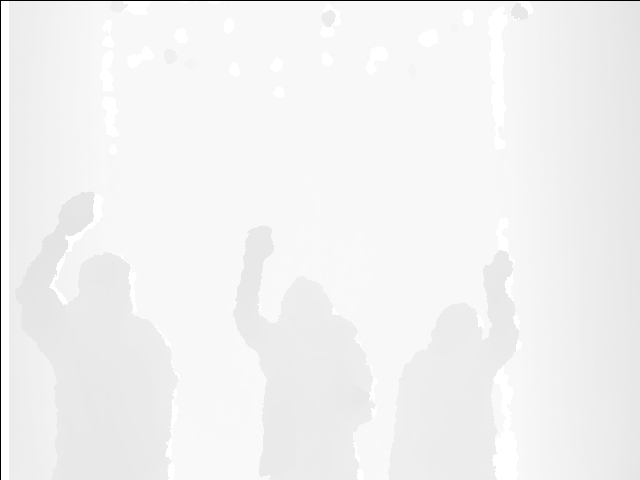hand: (53, 190, 98, 232), (483, 245, 513, 292), (246, 225, 276, 264)
